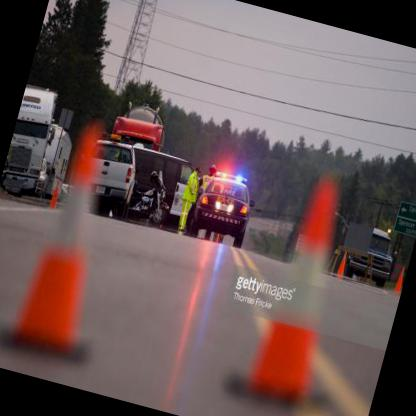cone: (236, 169, 364, 410), (0, 119, 128, 355), (44, 175, 64, 210), (336, 248, 350, 278), (392, 264, 405, 294)
